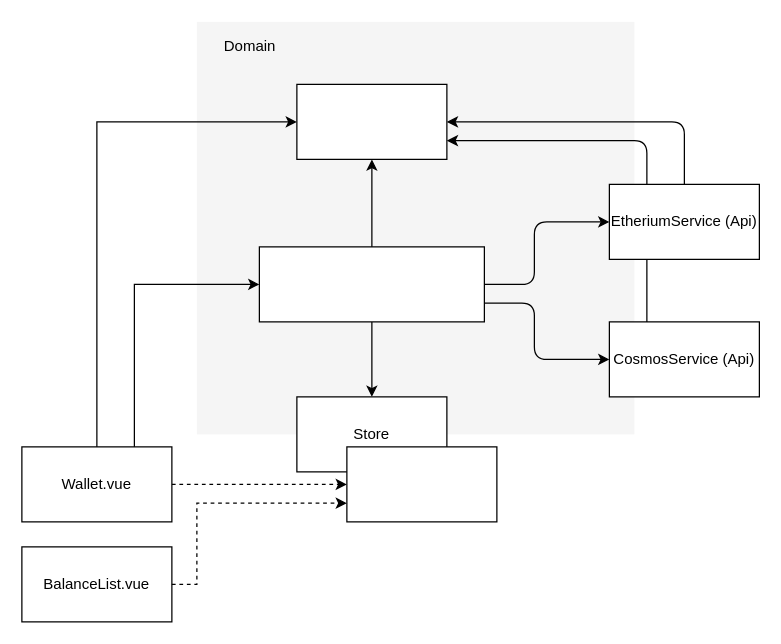
Image size: 781x644. Some labels were removed from this diagram. The centre of each missing label's shape, as x and y in pixels:
.wallet.balances (Reactive): (421,484)
Balance, Asset, (Entities): (371,121)
UpdateBalances (Action): (371,284)
